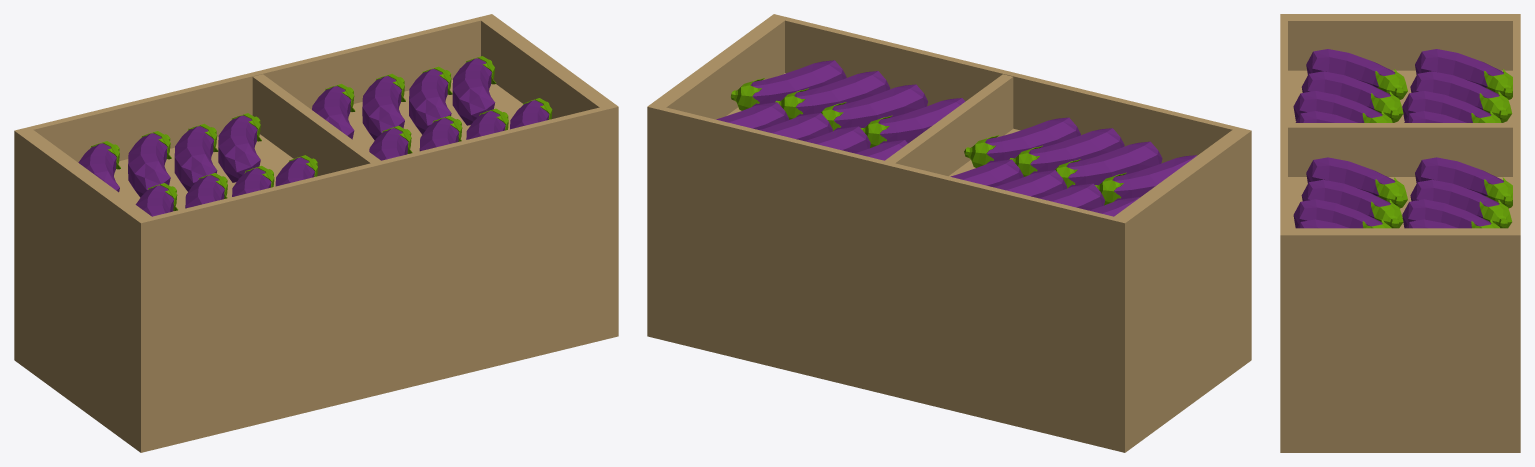
File: eggplant_box.gltf
3 views of the same model, side by side, from view 1: azimuth 30°, elevation 25°; view 2: azimuth 150°, elevation 25°; view 3: azimuth 270°, elevation 25° (orthographic). The views are drawn at different scales.
Parts seen in each view (by area): view 1: Cube; view 2: Cube; view 3: Cube.
Part boxes in pixels (box(x1,y1,x2,y2)): Cube: box(14, 14, 618, 452); Cube: box(647, 14, 1251, 452); Cube: box(1280, 14, 1520, 452).
Size of the model in its own units: 9.22 by 4.23 by 4.23.
